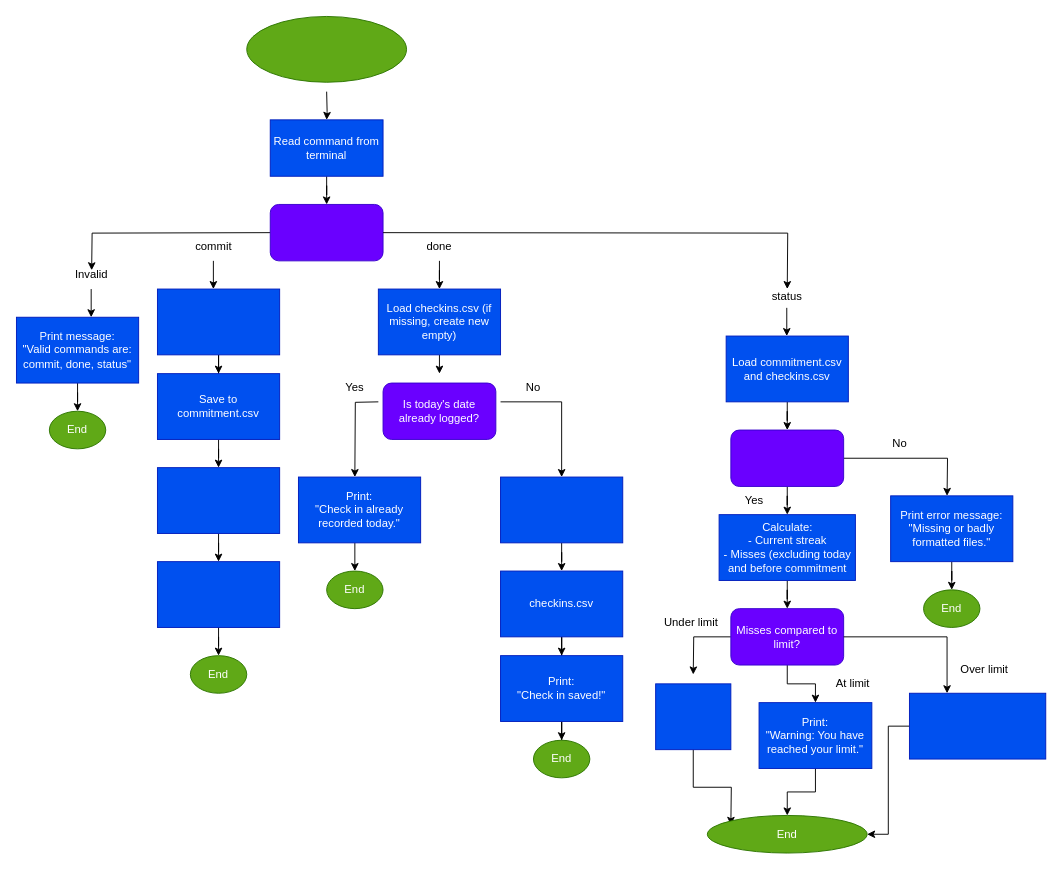
The diagram is 1062 pixels wide and 870 high, and some of its shapes have lost their labels. The centre of each missing label's shape, as x and y in pixels:
Append today's date to checkins.csv: the point at 561,509
commitment.csv: the point at 218,500
Files valid?: the point at 787,457
Print "Commitment saved!": the point at 218,594
Print: "Broken commitment! Consequence incoming.": the point at 977,725
Print: "On track! Keep going.": the point at 693,716
Read study goal, allowed misses, consequence and week start date: the point at 218,321
Start Program: the point at 326,49
Which command?: the point at 326,232
